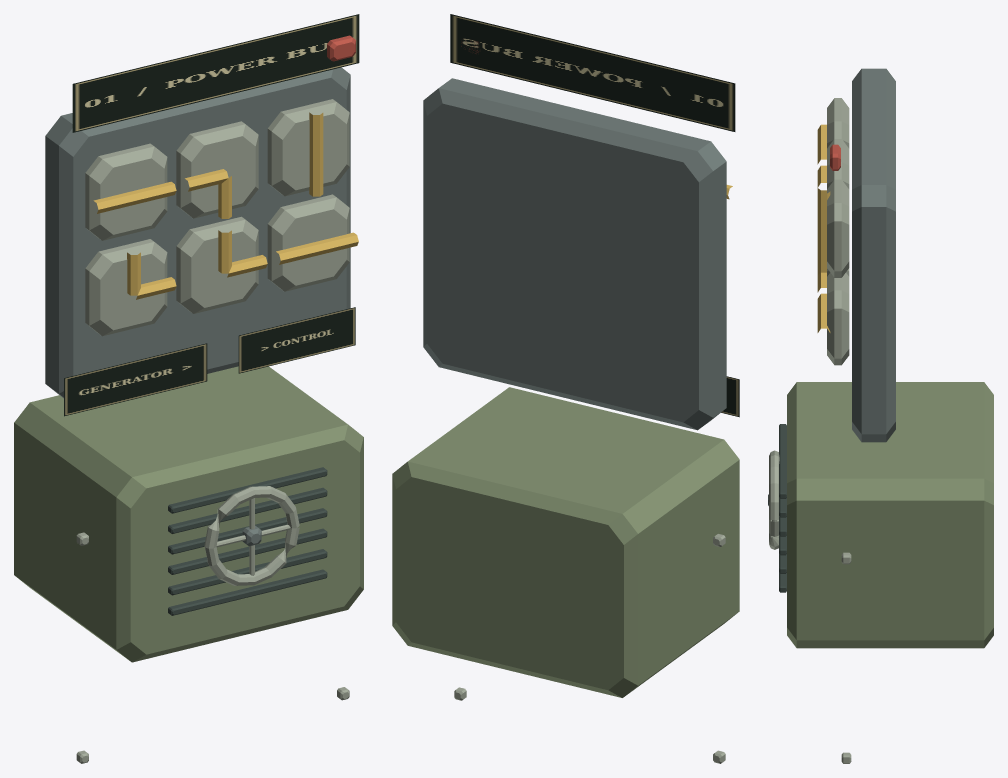
The model's file is power-station.glb.
The picture shows the model from 3 angles, left to right: view 1: azimuth 30°, elevation 25°; view 2: azimuth 150°, elevation 25°; view 3: azimuth 270°, elevation 25°; orthographic projection. The views are drawn at different scales.
Visible parts, largest first — view 1: Generator, PowerCabinet, PowerTitle, GeneratorVent (×6), Module_4, Module_1, Module_3, Module_5, Module_0, Module_2, GeneratorLabel, OutputLabel (+8 smaller); view 2: PowerCabinet, Generator, PowerTitle; view 3: Generator, PowerCabinet, Module_2, Module_5, GeneratorRotor_rim, Module_0, Module_1, GeneratorVent, Conductor_2_0.
Part boxes in pixels (x1,y1,x2,y2): Generator: [14, 366, 363, 662]; PowerCabinet: [45, 67, 350, 398]; PowerTitle: [72, 14, 359, 132]; GeneratorVent (×6): [168, 467, 327, 615]; Module_4: [176, 216, 258, 313]; Module_1: [176, 121, 258, 218]; Module_3: [85, 239, 167, 336]; Module_5: [267, 194, 349, 291]; Module_0: [85, 143, 167, 240]; Module_2: [267, 99, 349, 196]; GeneratorLabel: [64, 343, 207, 416]; OutputLabel: [238, 307, 355, 373]; PowerCabinet: [423, 78, 726, 430]; Generator: [392, 387, 739, 697]; PowerTitle: [450, 14, 735, 131]; Generator: [787, 382, 993, 648]; PowerCabinet: [852, 68, 895, 442]; Module_2: [827, 179, 849, 277]; Module_5: [827, 272, 849, 365]; GeneratorRotor_rim: [769, 450, 779, 549]; Module_0: [827, 98, 849, 148]; Module_1: [827, 139, 849, 188]; GeneratorVent: [779, 424, 786, 498]; Conductor_2_0: [817, 191, 830, 230].
Bounding box in the file's own units: 1.14 × 2.51 × 0.819.
Materials: 9 (3 with a texture image).
